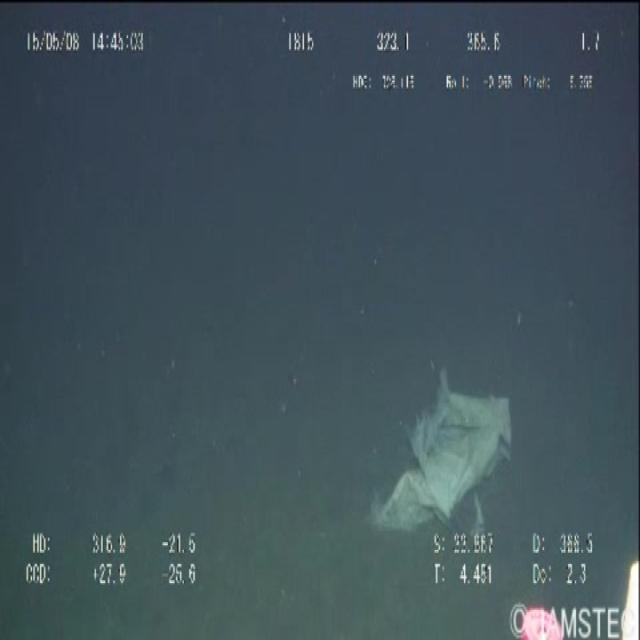Plastic: (374, 341, 546, 532)
